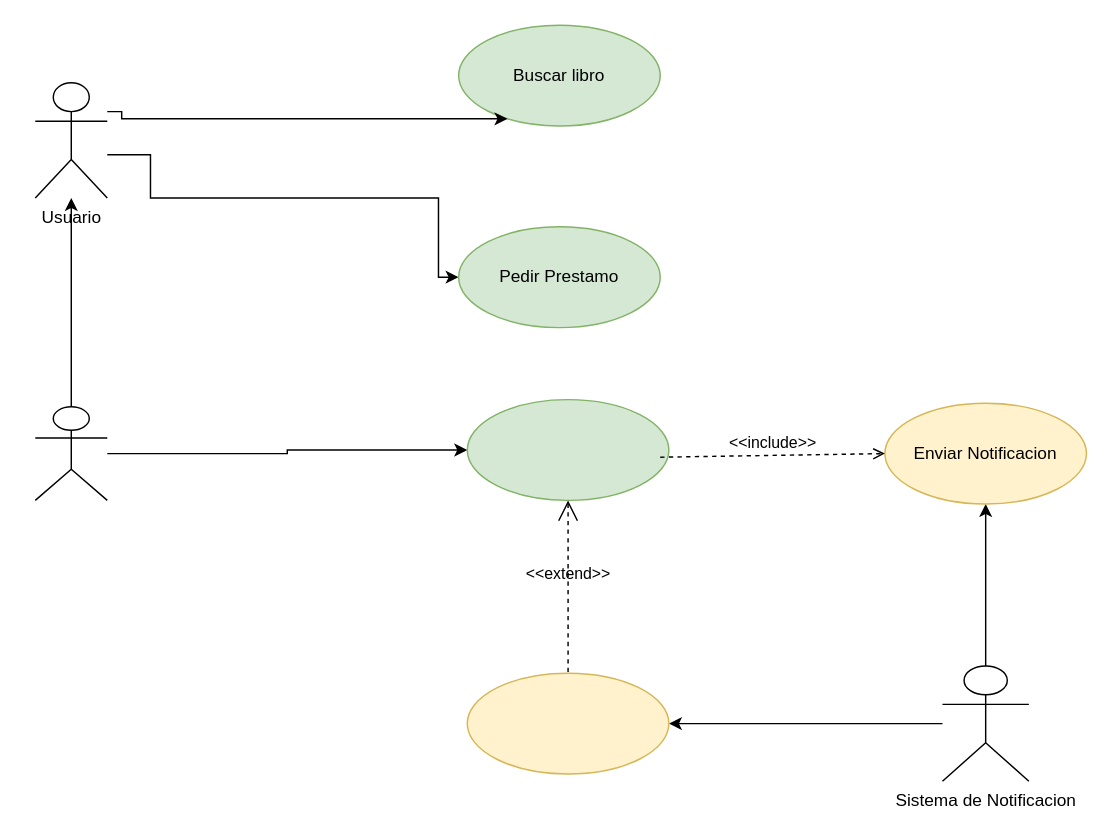
This 1112x837 diagram has some shape labels left out. Each missing label, with the centre of its shape:
Bibliotecario: pixel 70 452
Recordatorio devolución: pixel 567 723
Registrar prestamo: pixel 567 449
